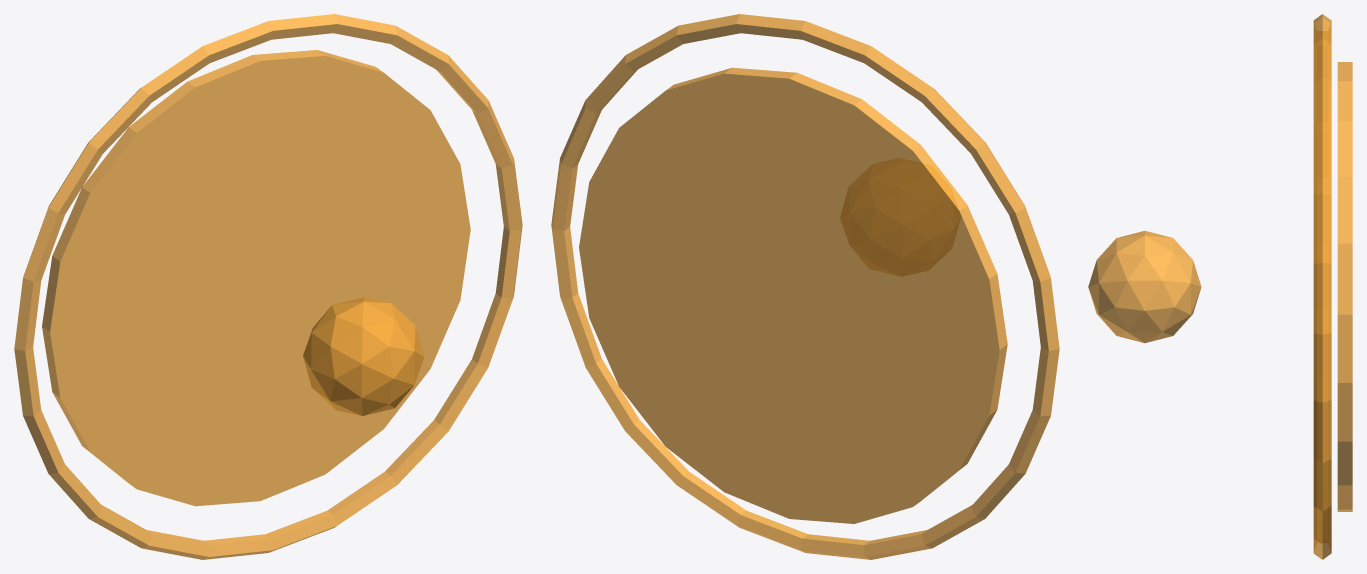
Rendered from familiar_totem.glb.
3 renders of one model, left to right at view 1: azimuth 30°, elevation 25°; view 2: azimuth 150°, elevation 25°; view 3: azimuth 270°, elevation 25°, orthographic. The views are drawn at different scales.
Parts seen in each view (by area): view 1: summon_disc, summon_ring, summon_core; view 2: summon_disc, summon_ring; view 3: summon_ring, summon_core, summon_disc.
Boxes of the visible parts, left/top/right/bottom form: summon_disc: left=42, top=50, right=470, bottom=506; summon_ring: left=14, top=14, right=522, bottom=559; summon_core: left=303, top=297, right=424, bottom=416; summon_disc: left=579, top=67, right=1007, bottom=523; summon_ring: left=551, top=14, right=1059, bottom=559; summon_ring: left=1313, top=14, right=1331, bottom=559; summon_core: left=1088, top=230, right=1201, bottom=343; summon_disc: left=1337, top=62, right=1352, bottom=511.
Size of the model in its own units: 1.45 by 1.45 by 0.7.
